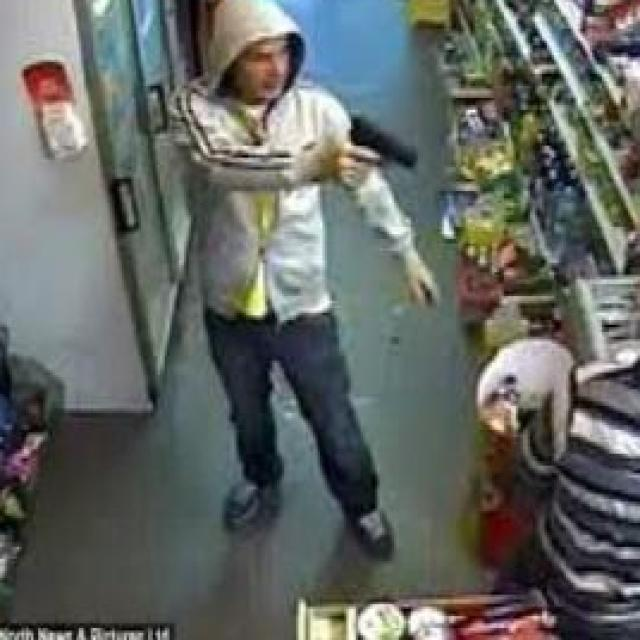pistol: (342, 98, 428, 220)
